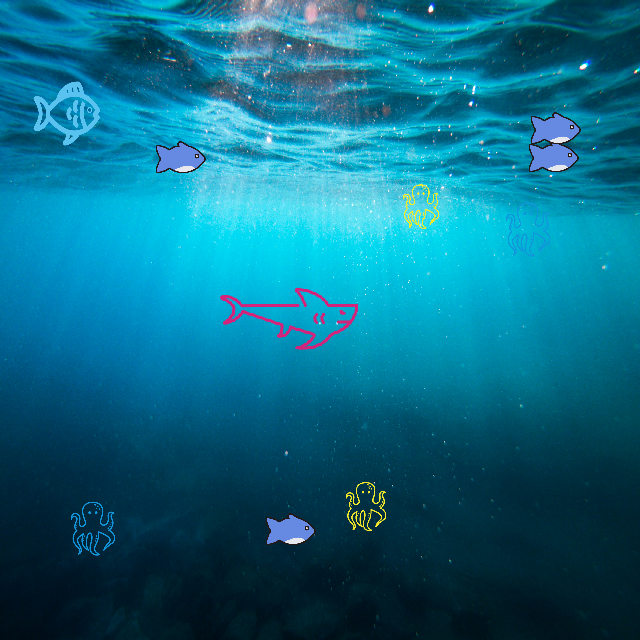target fish: (217, 286, 361, 352)
